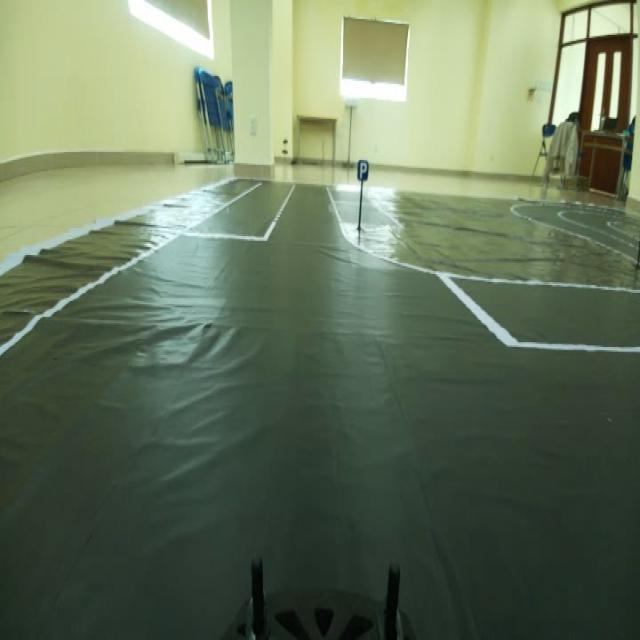parking: (353, 150, 368, 184)
